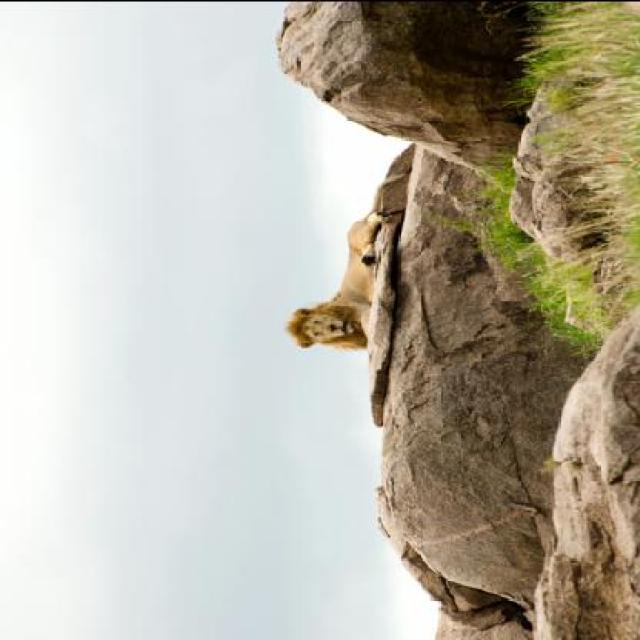Lion: (277, 200, 412, 360)
